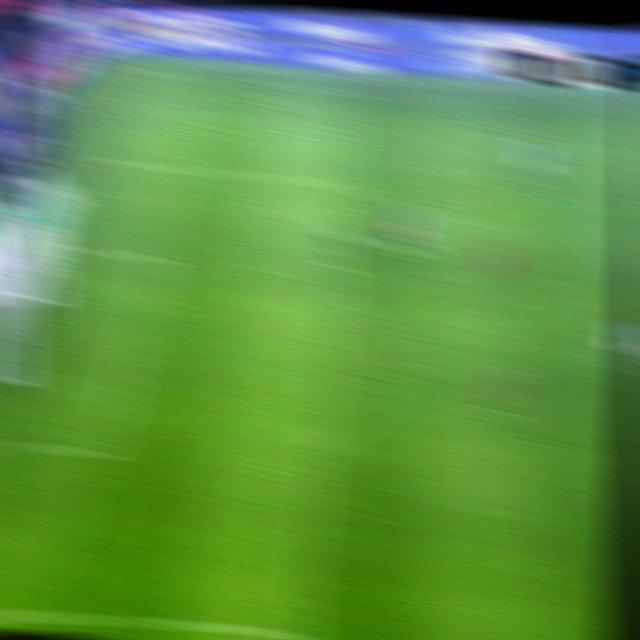bigarea_bottom_inner: (277, 612, 319, 640)
bigarea_top_inner: (325, 170, 364, 200)
bigarea_top_outter: (85, 148, 119, 172)
bottom_arc_area_intersection: (301, 431, 336, 460)
corner: (118, 61, 159, 83)
smallarea_bottom_inner: (81, 431, 122, 467)
smallarea_bottom_outter: (0, 424, 11, 461)
smallarea_top_inner: (140, 243, 176, 272)
smallarea_top_outter: (50, 234, 85, 260)
top_arc_area_intersection: (318, 276, 353, 305)
